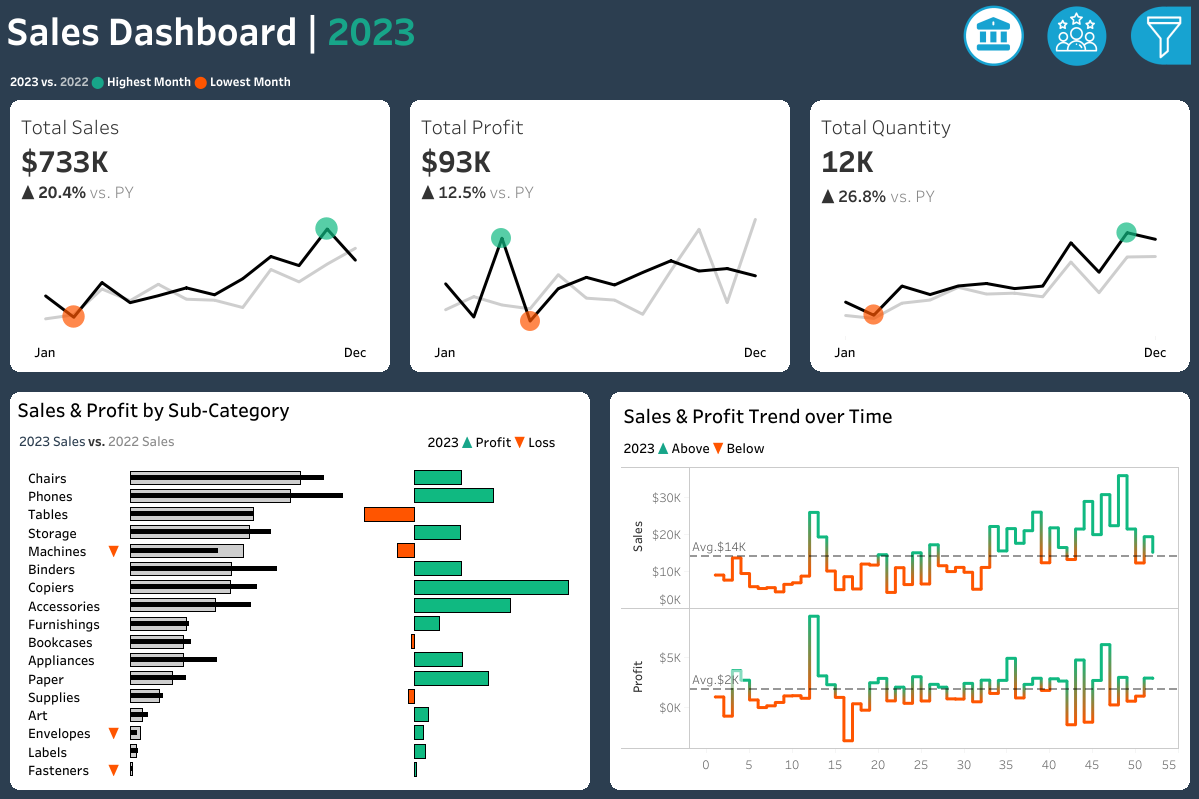

What the dashboard file says about the page in this screenshot:
{"tool":"tableau","page":{"name":"Sales Dashboard","canvas":[1200,800],"ordinal":1},"visuals":[{"type":"text","box":[0,0,1200,58]},{"type":"dashboard-object","box":[952,1,84,70]},{"type":"dashboard-object","box":[1036,1,83,70]},{"type":"dashboard-object","box":[1119,1,83,70]},{"type":"blank","box":[965,10,220,93]},{"type":"worksheet","title":"Legend KPI","mark":"Automatic","box":[0,63,1200,37]},{"type":"worksheet","title":"KPI Sales","mark":"Line","rows":["Calculation_0511872657465351"],"cols":["Order Date"],"box":[0,100,400,282]},{"type":"worksheet","title":"KPI Profit","mark":"Circle","rows":["Calculation_0511872702300186"],"cols":["Order Date"],"box":[400,100,400,282]},{"type":"worksheet","title":"KPI Quantity","mark":"Automatic","rows":["Calculation_0511872712339488"],"cols":["Order Date"],"box":[800,100,400,282]},{"type":"text","box":[965,103,220,72]},{"type":"parameter","param":"[Parameters].[Parameter 0511872648384516]","box":[965,175,220,91]},{"type":"text","box":[965,266,220,50]},{"type":"filter","title":"KPI Sales","param":"[federated.0gc1kzu15zl2kw0zrg6ie1s934xx].[none:Category:nk]","box":[965,316,220,53]},{"type":"filter","title":"KPI Sales","param":"[federated.0gc1kzu15zl2kw0zrg6ie1s934xx].[none:Sub-Category:nk]","box":[965,369,220,52]},{"type":"text","box":[11,393,578,32]},{"type":"text","box":[617,399,566,32]},{"type":"blank","box":[965,421,220,43]},{"type":"worksheet","title":"Legend Sub-Category","mark":"Automatic","box":[11,425,410,32]},{"type":"text","box":[421,425,168,32]},{"type":"text","box":[617,431,566,32]},{"type":"worksheet","title":"Sub-Category Comparison","mark":"Bar","rows":["Sub-Category","Calculation_0589663226564608"],"cols":["Calculation_0511872646377473","Calculation_0511872645312512","Calculation_0511872696836119"],"box":[11,457,578,332]},{"type":"worksheet","title":"Weekly Trends","mark":"Automatic","rows":["Calculation_0511872645312512","Calculation_0511872696836119"],"cols":["Order Date"],"box":[617,463,566,320]},{"type":"text","box":[965,464,220,37]},{"type":"filter","title":"KPI Sales","param":"[federated.0gc1kzu15zl2kw0zrg6ie1s934xx].[none:Region:nk]","box":[965,501,220,53]},{"type":"filter","title":"KPI Sales","param":"[federated.0gc1kzu15zl2kw0zrg6ie1s934xx].[none:State:nk]","box":[965,554,220,53]},{"type":"filter","title":"KPI Sales","param":"[federated.0gc1kzu15zl2kw0zrg6ie1s934xx].[none:City:nk]","box":[965,607,220,53]}]}

Visuals, with their boxes in screenshot pixels (x1, y1, x2, y2), scaled from the page's 1200x800 canvas onto the 1199x799 screenshot:
text: pyautogui.locateOnScreen(0, 0, 1198, 58)
dashboard-object: pyautogui.locateOnScreen(951, 1, 1035, 71)
dashboard-object: pyautogui.locateOnScreen(1035, 1, 1118, 71)
dashboard-object: pyautogui.locateOnScreen(1118, 1, 1198, 71)
blank: pyautogui.locateOnScreen(964, 10, 1184, 103)
"Legend KPI" worksheet: pyautogui.locateOnScreen(0, 63, 1198, 100)
"KPI Sales" worksheet (Line marks): pyautogui.locateOnScreen(0, 100, 400, 382)
"KPI Profit" worksheet (Circle marks): pyautogui.locateOnScreen(400, 100, 799, 382)
"KPI Quantity" worksheet: pyautogui.locateOnScreen(799, 100, 1198, 382)
text: pyautogui.locateOnScreen(964, 103, 1184, 175)
parameter: pyautogui.locateOnScreen(964, 175, 1184, 266)
text: pyautogui.locateOnScreen(964, 266, 1184, 316)
"KPI Sales" filter: pyautogui.locateOnScreen(964, 316, 1184, 369)
"KPI Sales" filter: pyautogui.locateOnScreen(964, 369, 1184, 420)
text: pyautogui.locateOnScreen(11, 393, 589, 424)
text: pyautogui.locateOnScreen(616, 399, 1182, 430)
blank: pyautogui.locateOnScreen(964, 420, 1184, 463)
"Legend Sub-Category" worksheet: pyautogui.locateOnScreen(11, 424, 421, 456)
text: pyautogui.locateOnScreen(421, 424, 589, 456)
text: pyautogui.locateOnScreen(616, 430, 1182, 462)
"Sub-Category Comparison" worksheet (Bar marks): pyautogui.locateOnScreen(11, 456, 589, 788)
"Weekly Trends" worksheet: pyautogui.locateOnScreen(616, 462, 1182, 782)
text: pyautogui.locateOnScreen(964, 463, 1184, 500)
"KPI Sales" filter: pyautogui.locateOnScreen(964, 500, 1184, 553)
"KPI Sales" filter: pyautogui.locateOnScreen(964, 553, 1184, 606)
"KPI Sales" filter: pyautogui.locateOnScreen(964, 606, 1184, 659)
